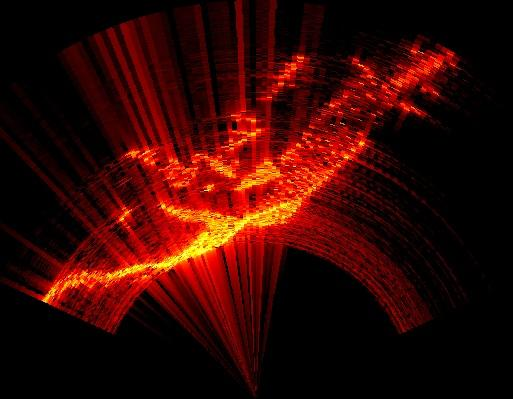shipwreck: (164, 133, 363, 228), (50, 218, 256, 300), (129, 150, 238, 185), (225, 109, 266, 148)
